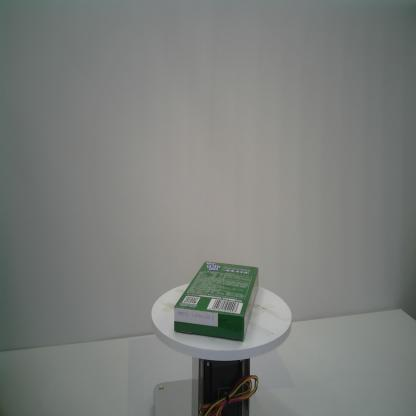Dessert: (173, 260, 259, 342)
